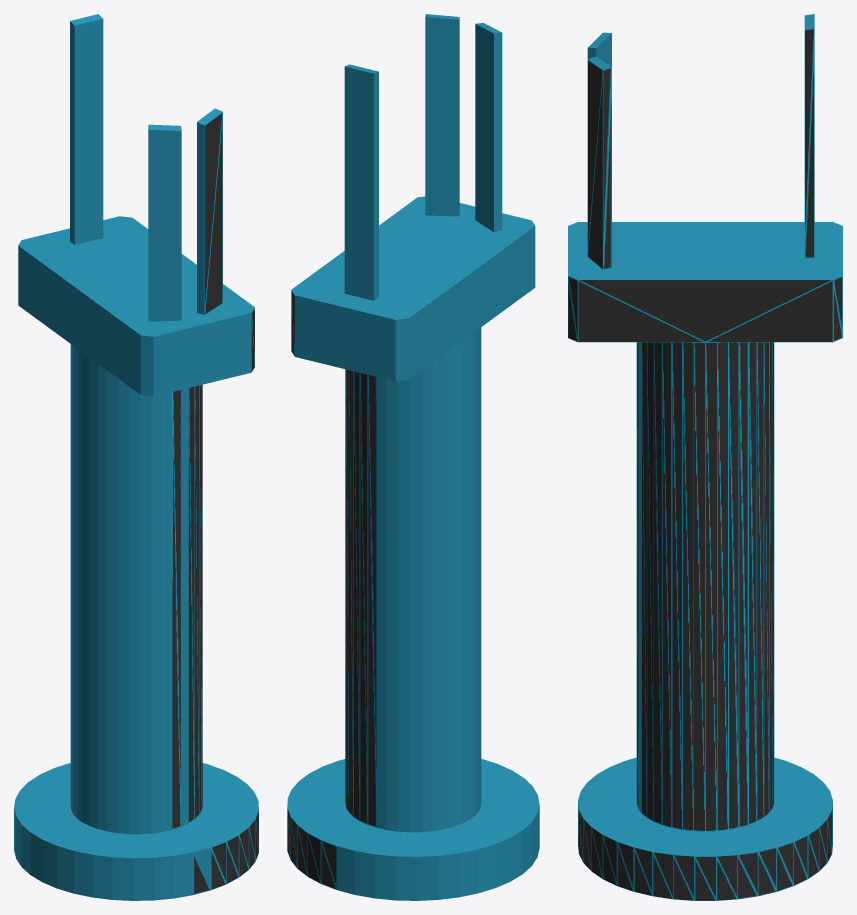
3 renders of one model, left to right at view 1: azimuth 30°, elevation 25°; view 2: azimuth 150°, elevation 25°; view 3: azimuth 270°, elevation 25°, orthographic. The views are drawn at different scales.
Visible parts, largest first — view 1: x; view 2: x; view 3: x.
Part boxes in pixels (x1=…): x: x1=14, y1=14, x2=258, y2=900; x: x1=287, y1=14, x2=539, y2=900; x: x1=568, y1=14, x2=842, y2=900.
Size of the model in its own units: 25.95 by 92.81 by 28.
1 material, 1 textured.
